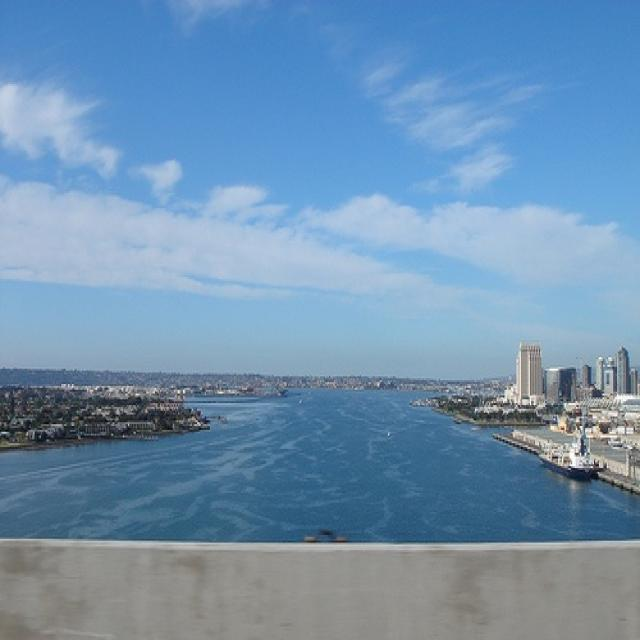boat: (539, 430, 603, 483)
